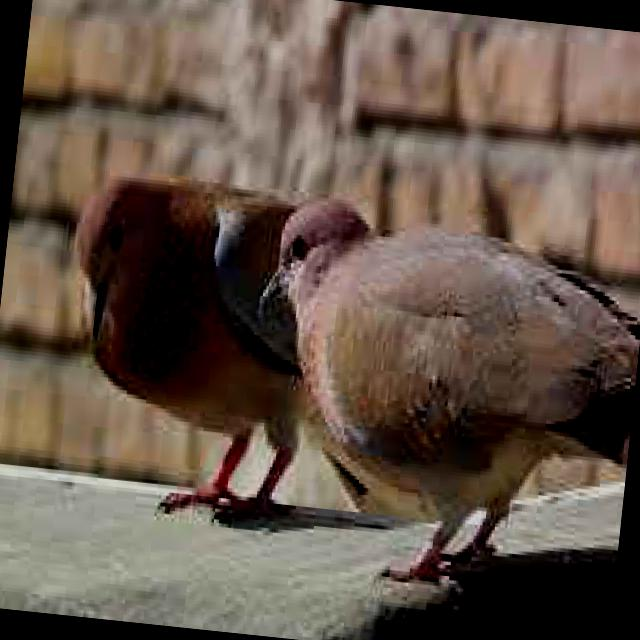bird: (225, 181, 640, 611), (47, 148, 355, 544)
